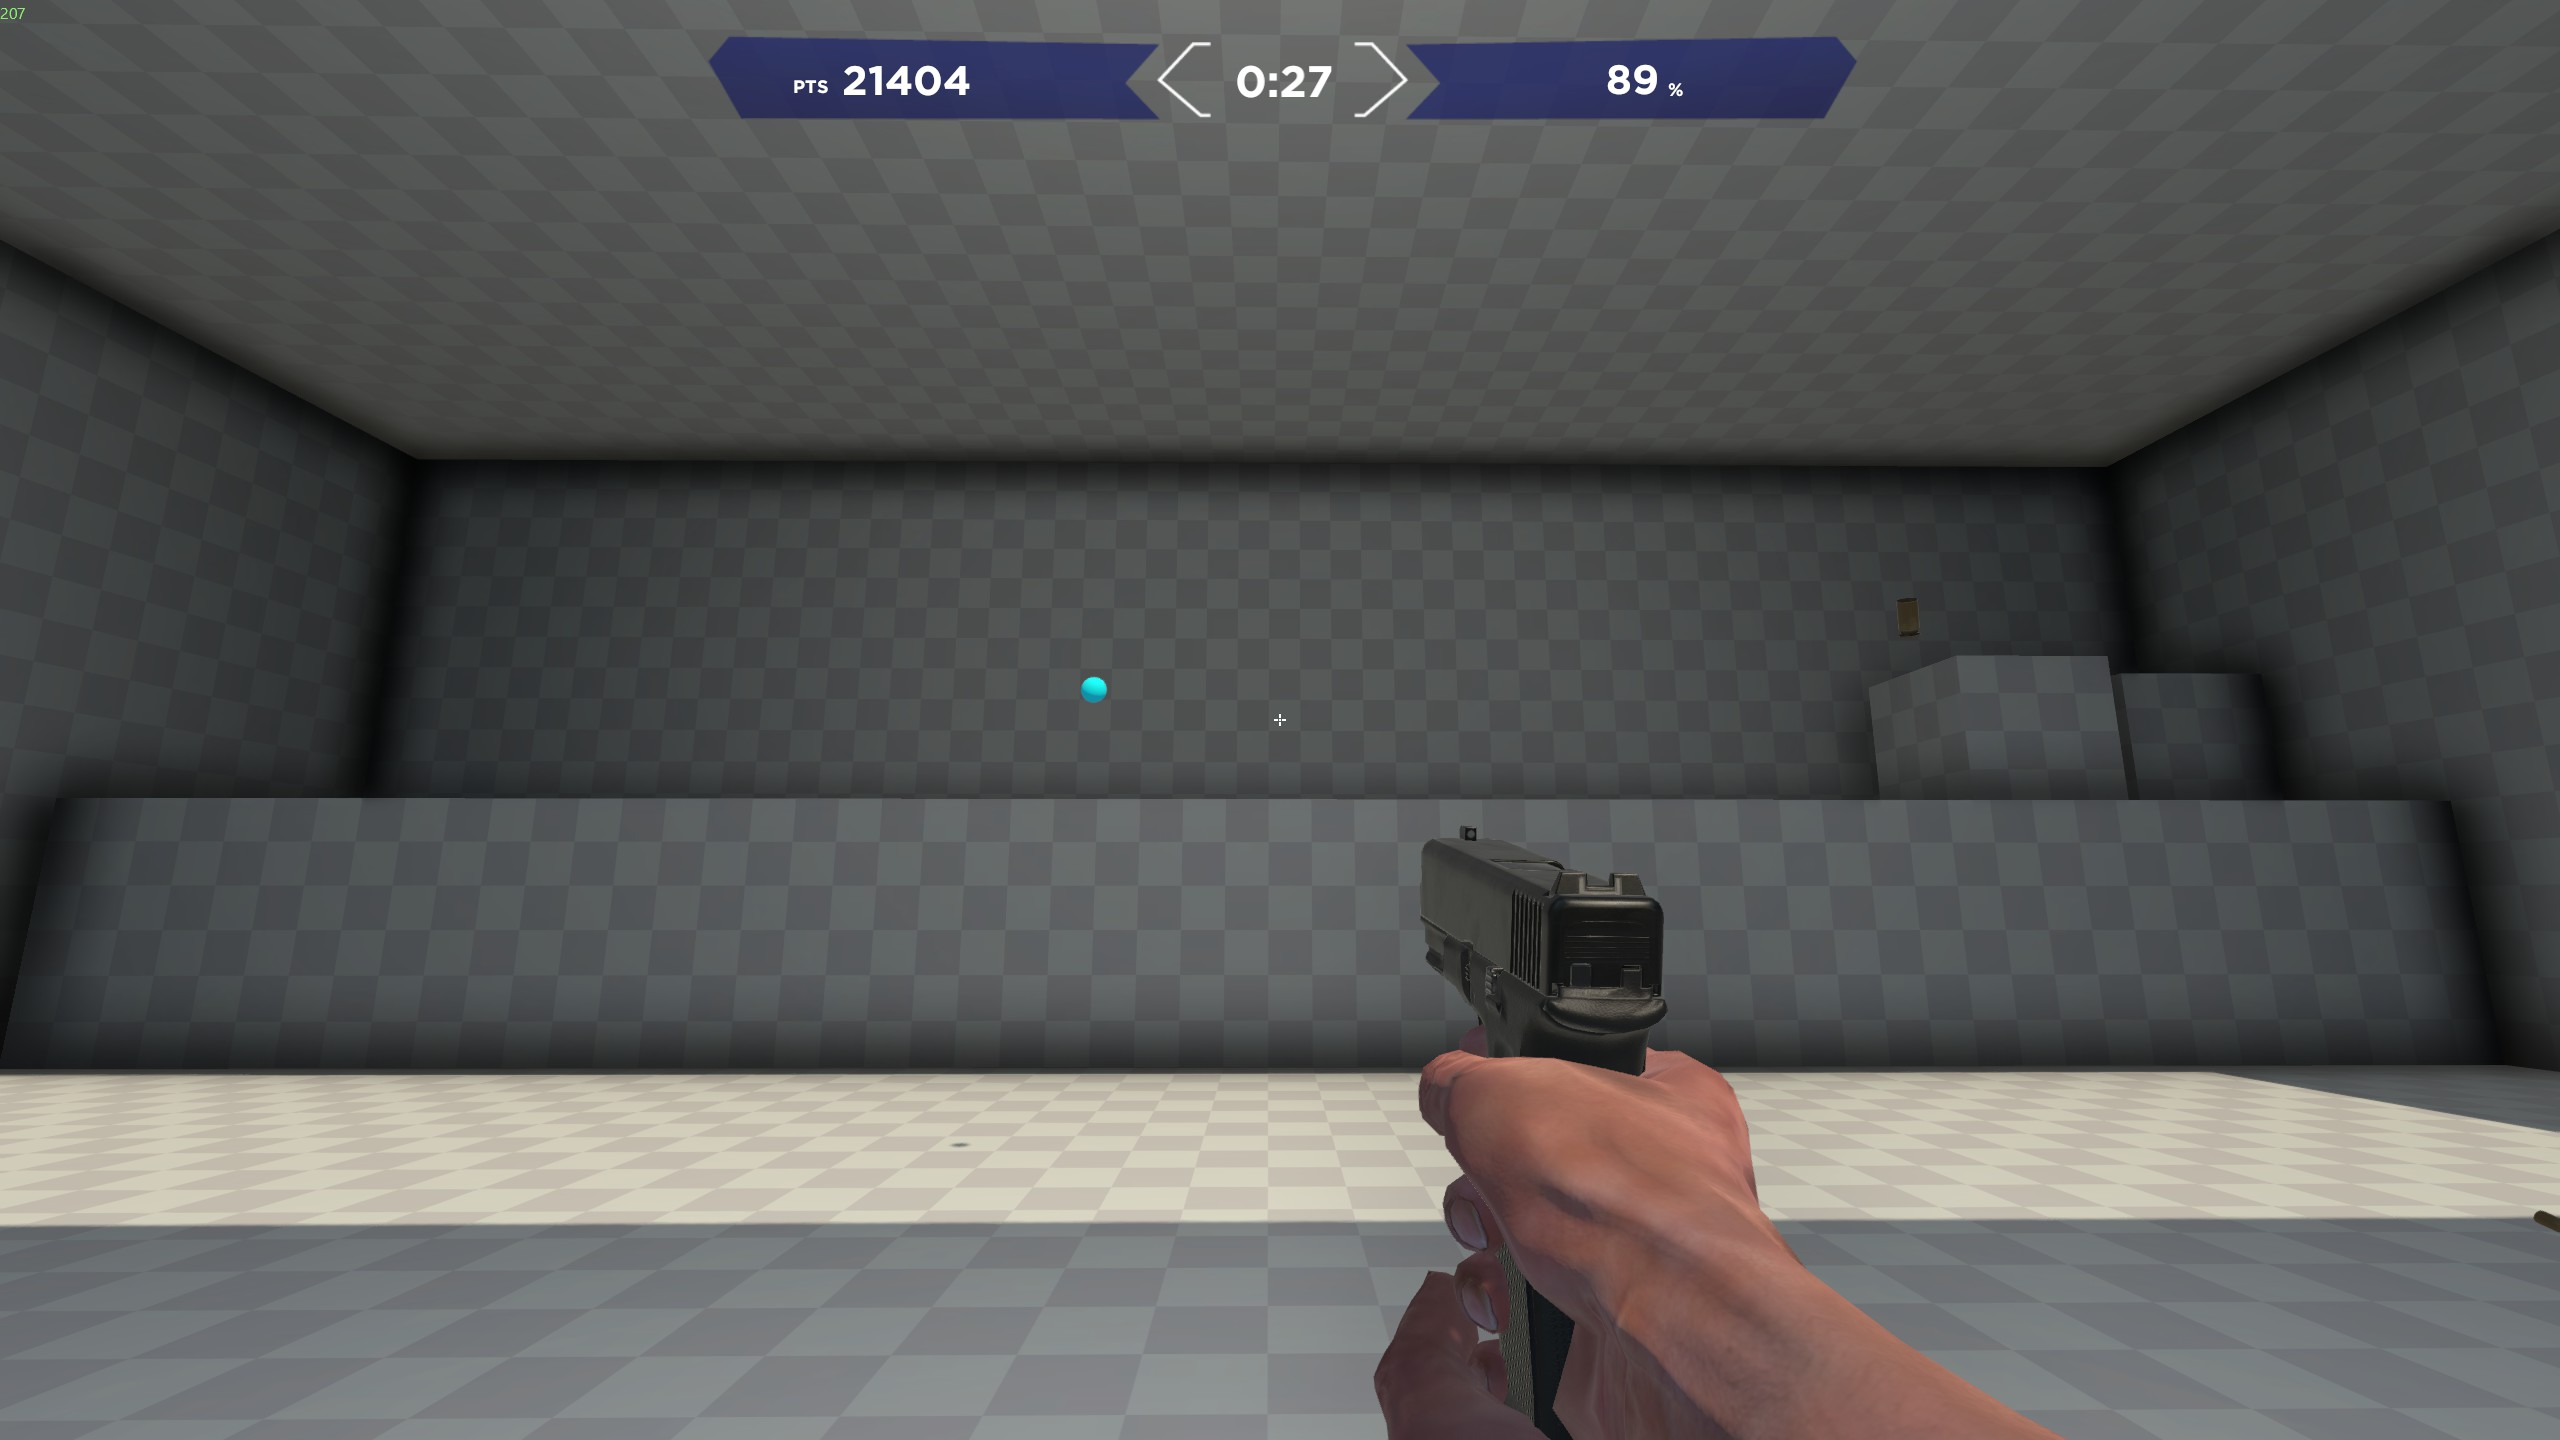Target: (1078, 677, 1113, 700)
